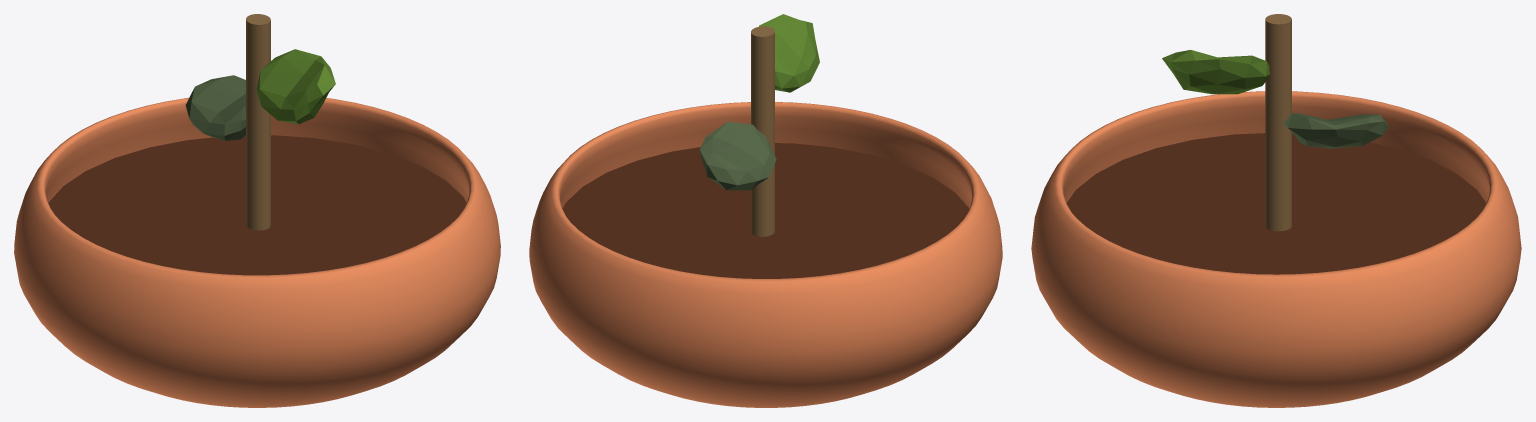
Rendered from potted_plant_small.glb.
3 views of the same model, side by side, from view 1: azimuth 30°, elevation 25°; view 2: azimuth 150°, elevation 25°; view 3: azimuth 270°, elevation 25° (orthographic). The views are drawn at different scales.
Visible parts, largest first — view 1: Cube, Circle, Cylinder, Icosphere, Icosphere.001; view 2: Cube, Circle, Icosphere.001, Cylinder, Icosphere; view 3: Cube, Circle, Cylinder, Icosphere, Icosphere.001.
Boxes of the visible parts, x1,y1,x2,y2 form: Cube: [14, 97, 500, 407]; Circle: [48, 135, 466, 275]; Cylinder: [246, 14, 270, 230]; Icosphere: [256, 49, 335, 124]; Icosphere.001: [185, 75, 245, 140]; Cube: [529, 102, 1002, 407]; Circle: [562, 143, 969, 278]; Icosphere.001: [699, 121, 776, 190]; Cylinder: [751, 26, 774, 236]; Icosphere: [759, 14, 819, 92]; Cube: [1031, 91, 1521, 407]; Circle: [1066, 133, 1486, 274]; Cylinder: [1265, 14, 1291, 231]; Icosphere: [1162, 50, 1269, 94]; Icosphere.001: [1283, 113, 1388, 148].
Size of the model in its own units: 0.5367 by 0.4104 by 0.5367.
